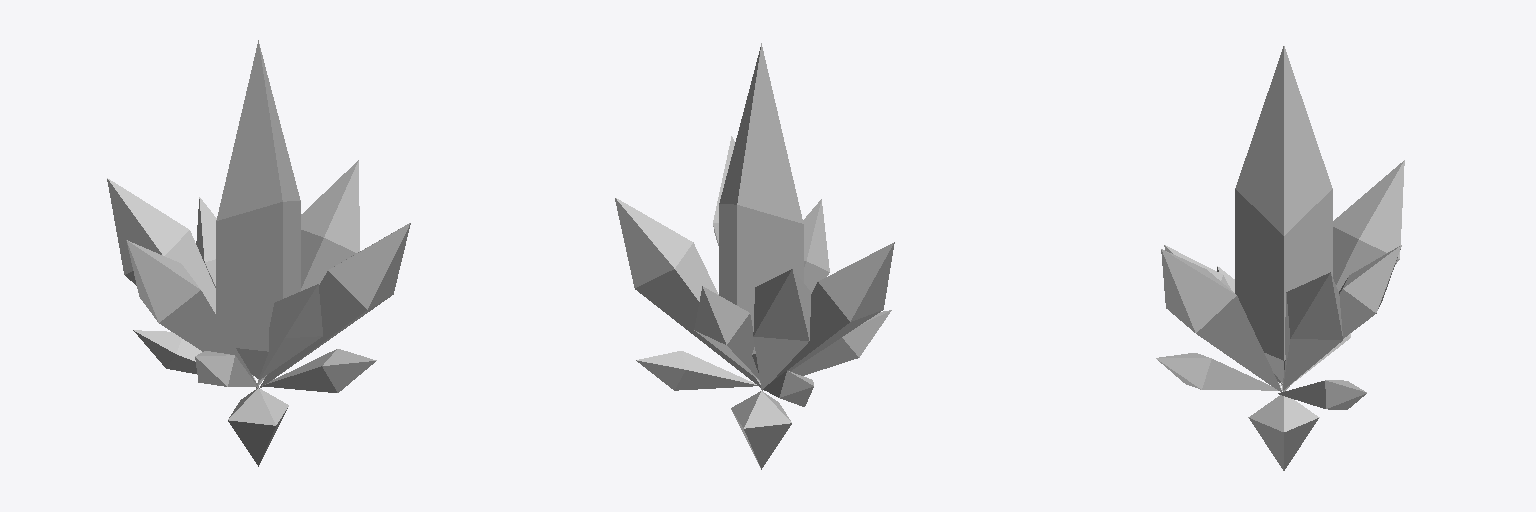
Rendered from temporal_bloom.obj.
3 renders of one model, left to right at view 1: azimuth 30°, elevation 25°; view 2: azimuth 150°, elevation 25°; view 3: azimuth 270°, elevation 25°, orthographic.
Parts seen in each view (by area): view 1: temporal_bloom; view 2: temporal_bloom; view 3: temporal_bloom.
Part boxes in pixels (bbox=[...]): temporal_bloom: bbox=[107, 40, 410, 466]; temporal_bloom: bbox=[615, 43, 894, 469]; temporal_bloom: bbox=[1156, 46, 1404, 470].
Bounding box in the file's own units: 1.24 × 1.97 × 1.04.